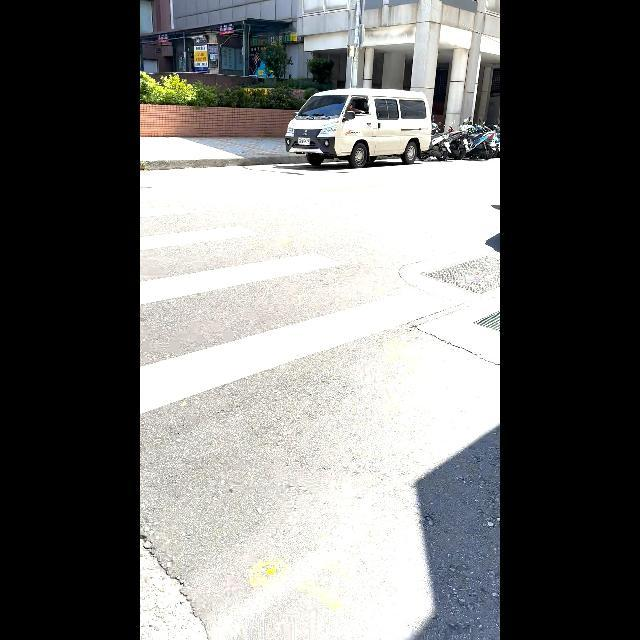sidewalk: (141, 200, 476, 418)
